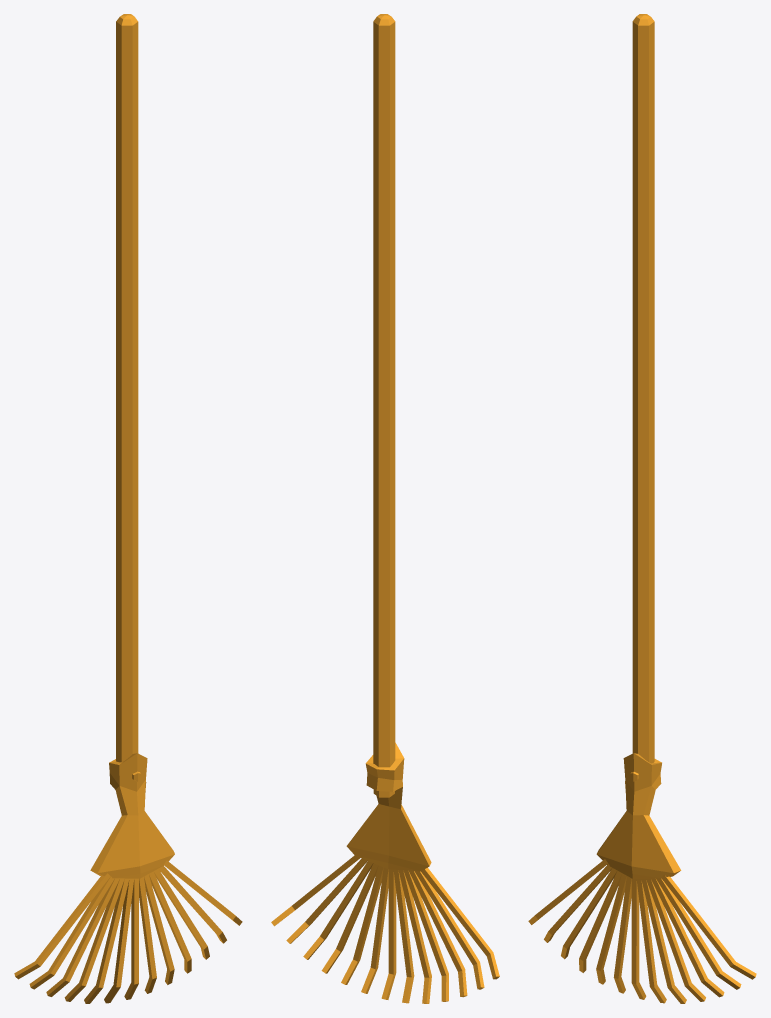
Rendered from SM_Rake_B.fbx.
3 views of the same model, side by side, from view 1: azimuth 30°, elevation 25°; view 2: azimuth 150°, elevation 25°; view 3: azimuth 330°, elevation 25° (orthographic).
Parts seen in each view (by area): view 1: rake-b; view 2: rake-b; view 3: rake-b.
Boxes of the visible parts, x1,y1,x2,y2 form: rake-b: [14, 14, 242, 1003]; rake-b: [271, 14, 499, 1003]; rake-b: [528, 14, 756, 1003].
Bounding box in the file's own units: 0.3982 × 1.64 × 0.0602.
